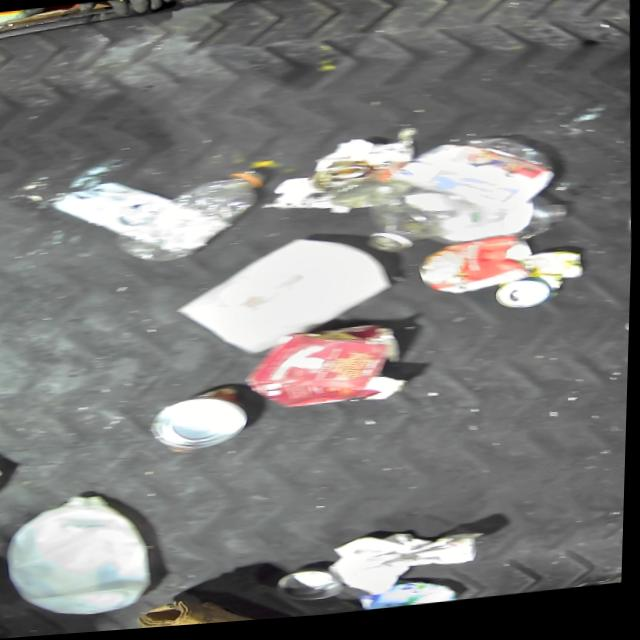can: (416, 239, 539, 304), (149, 384, 255, 458), (278, 568, 351, 608), (494, 282, 555, 318)
milk_jug: (3, 488, 160, 625)
plastic_bottle: (111, 171, 270, 269)
